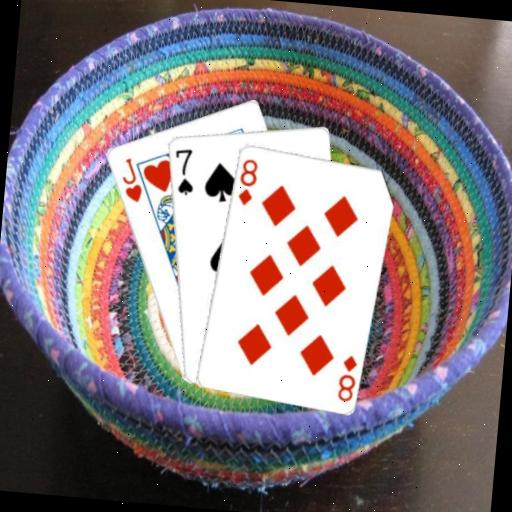7S: (168, 144, 198, 197)
8D: (334, 350, 360, 404), (234, 155, 260, 208)
JH: (117, 154, 147, 205)
